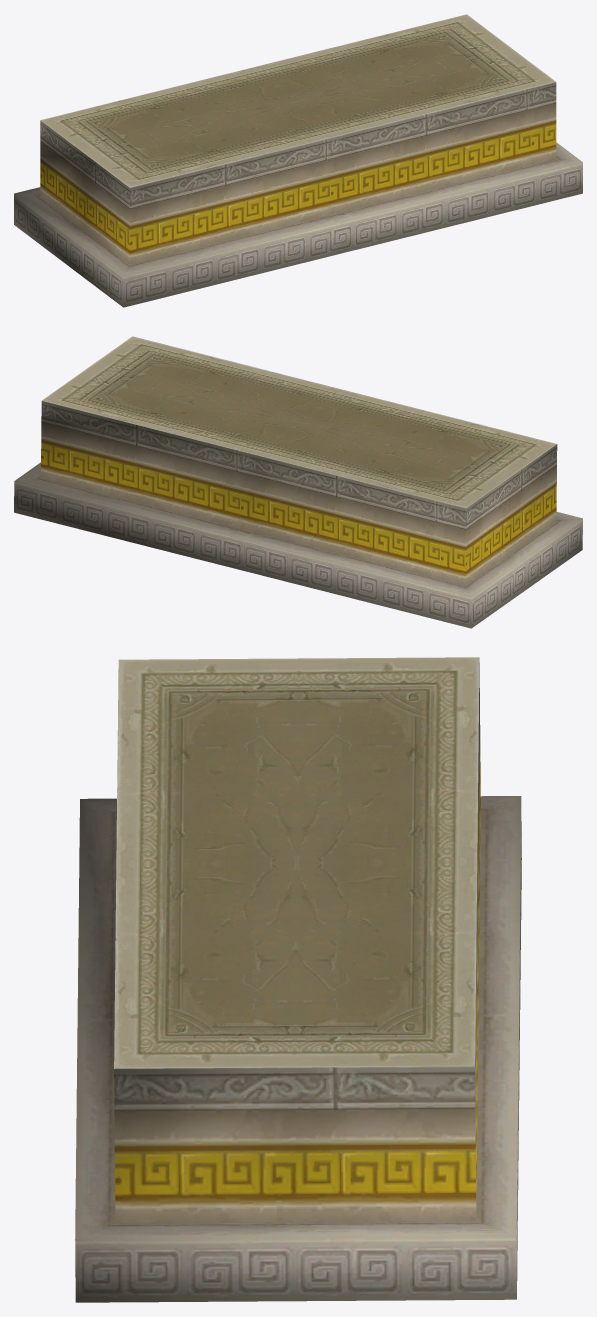
File: environment_Building_sea_001_d.FBX
3 views of the same model, one above another, from view 1: azimuth 30°, elevation 25°; view 2: azimuth 150°, elevation 25°; view 3: azimuth 270°, elevation 25° (orthographic). The views are drawn at different scales.
Parts seen in each view (by area): view 1: environment_Building_sea_001_d; view 2: environment_Building_sea_001_d; view 3: environment_Building_sea_001_d.
Boxes of the visible parts, x1,y1,x2,y2 form: environment_Building_sea_001_d: [14, 14, 582, 307]; environment_Building_sea_001_d: [14, 336, 582, 628]; environment_Building_sea_001_d: [75, 657, 521, 1302].
Size of the model in its own units: 1055 by 249 by 444.
Materials: 1 (1 with a texture image).
